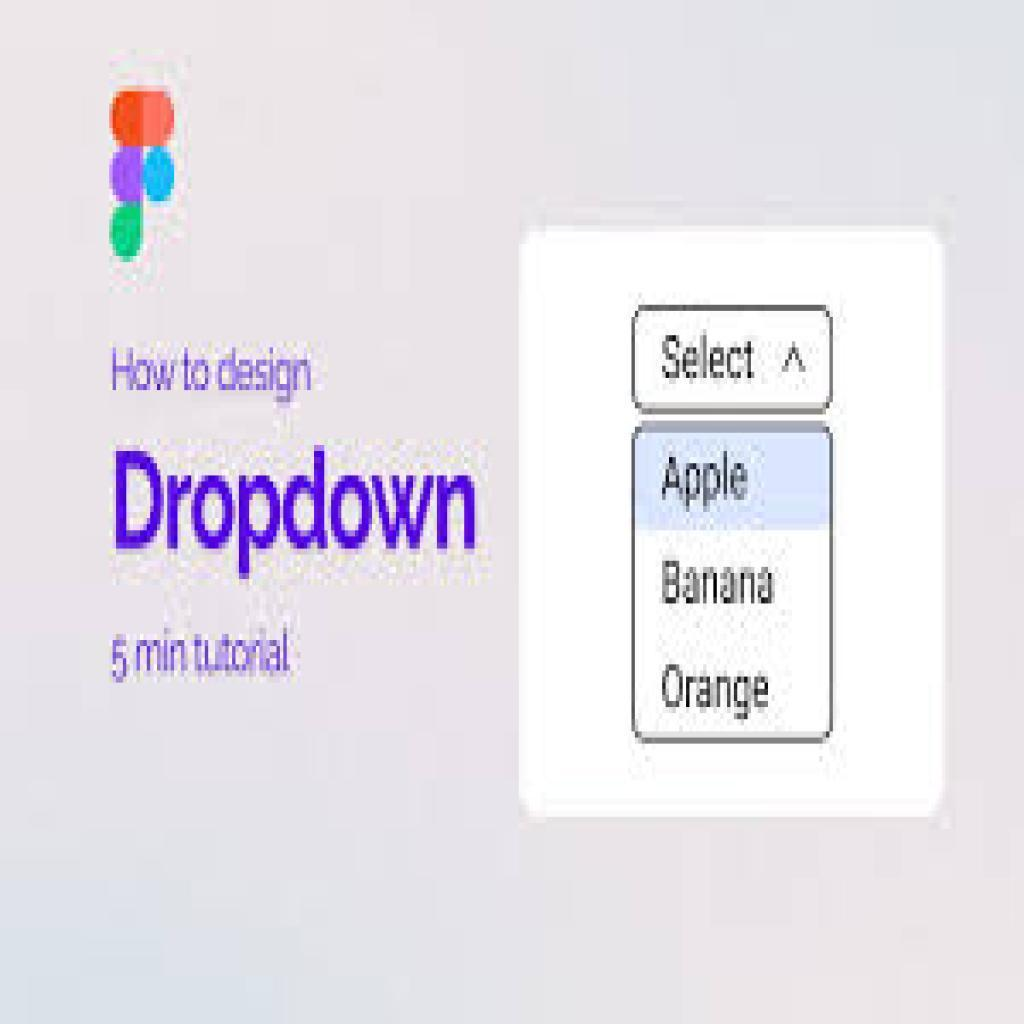dropdown: (630, 308, 836, 416)
